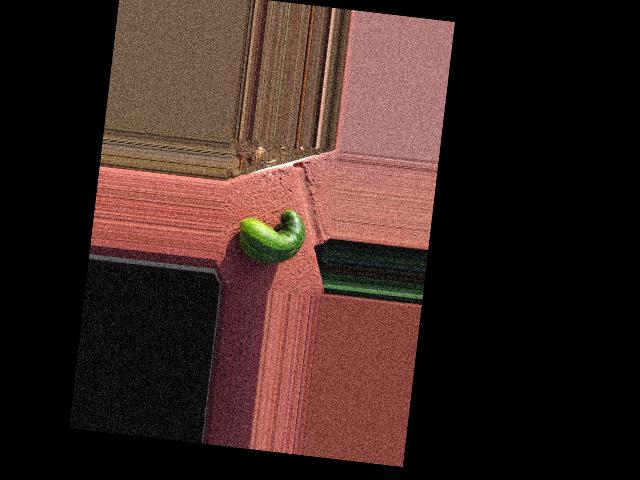cucumber: (235, 203, 307, 266)
